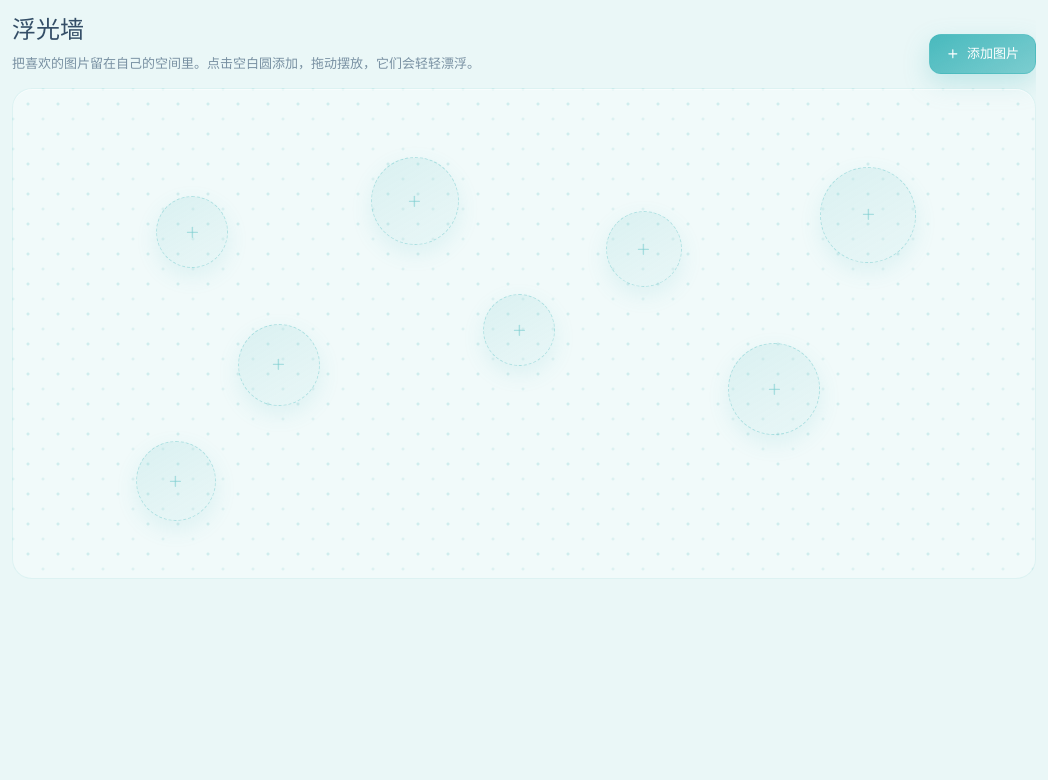
Test case: 浮光墙页面 › 右键占位圆弹出菜单，移除后画布上的圆减少一个
Right-click the 3rd button with class "drift-item": x=192, y=232 [156, 196, 228, 268]
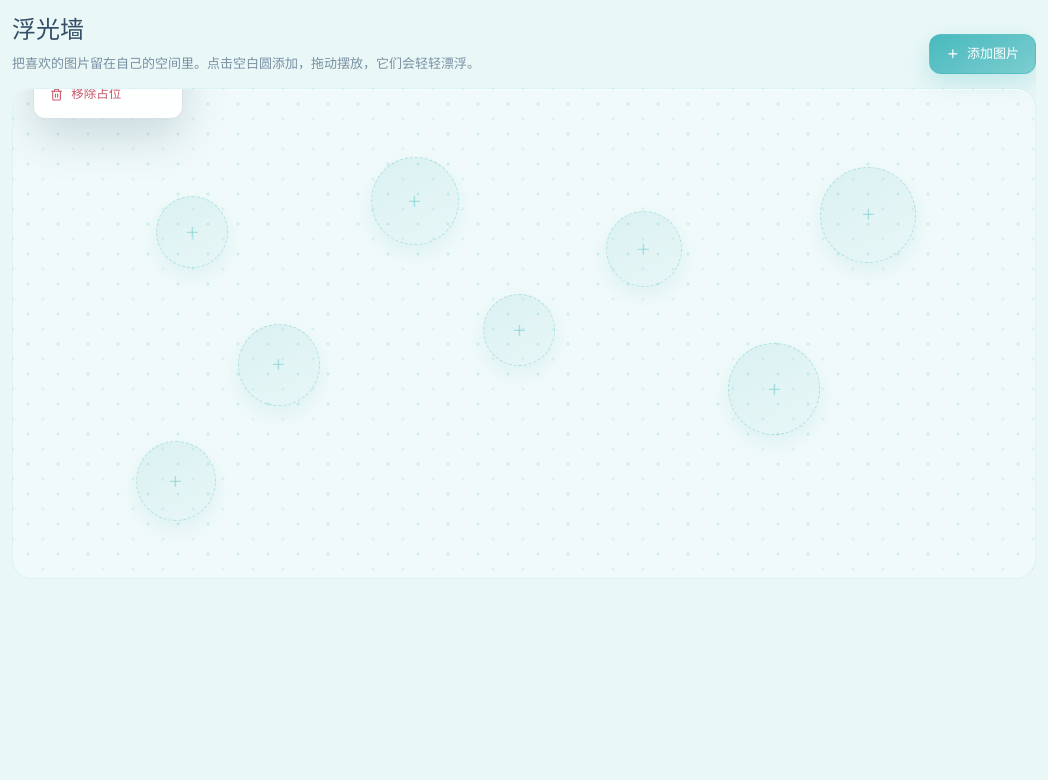
Result: the button "移除占位" is shown at [40, 88, 176, 112]
Click the button "移除占位": x=108, y=94 [40, 77, 176, 112]
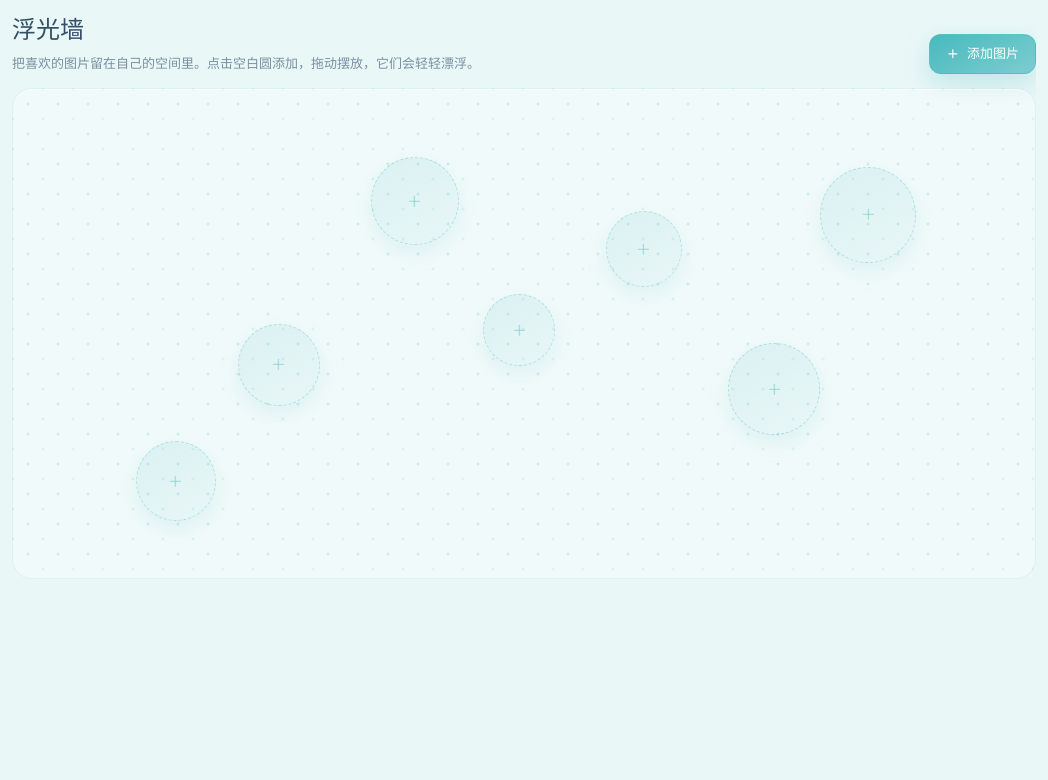
Result: the number of buttons with class "drift-item" is 7
